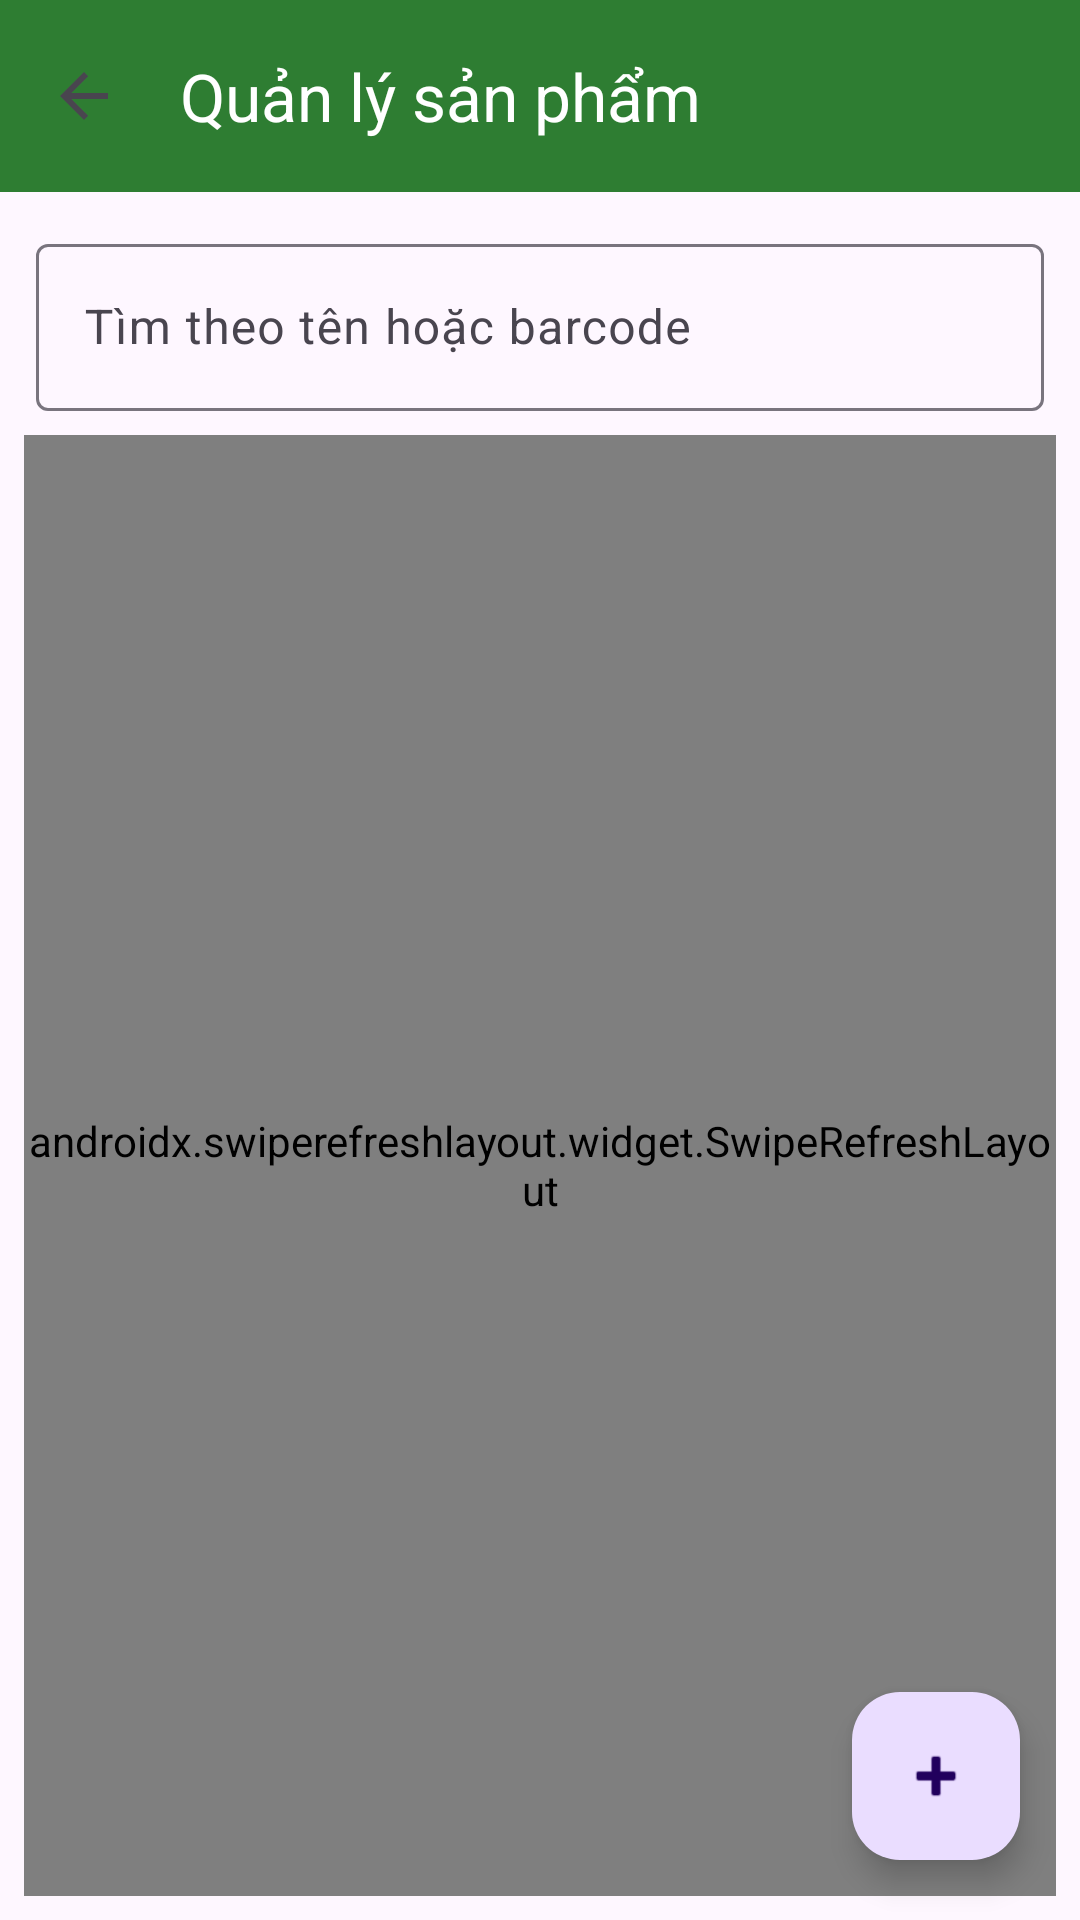

Icon bounding boxes for this 1080x1920 phone screenshot, format (x1, y1, x2, y2):
Thêm sản phẩm: (852, 1692, 1020, 1860)
